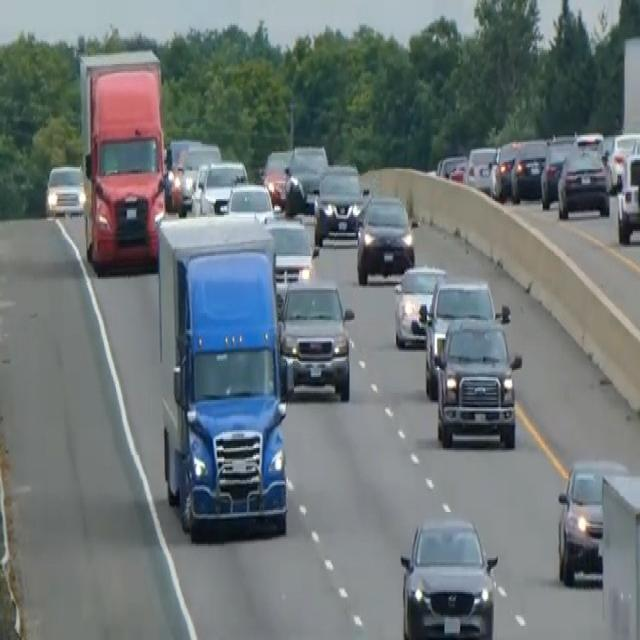car: (398, 514, 498, 638), (434, 313, 522, 448), (422, 277, 504, 398), (555, 455, 628, 587), (278, 276, 354, 402), (355, 192, 415, 284), (392, 262, 446, 348), (313, 162, 367, 245), (556, 142, 610, 220), (263, 213, 313, 283), (284, 142, 328, 210), (177, 142, 221, 210), (539, 133, 576, 208), (199, 158, 248, 214), (509, 137, 547, 203), (44, 162, 85, 217), (615, 150, 639, 243), (605, 130, 639, 190), (489, 137, 520, 201), (225, 180, 274, 220), (261, 148, 292, 206), (464, 142, 497, 194), (436, 151, 466, 181)
lorry: (154, 210, 294, 542), (77, 46, 170, 272)
